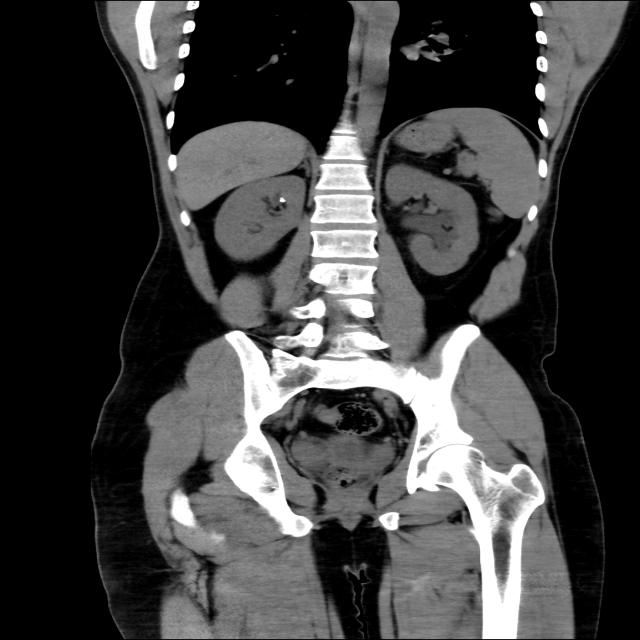kidneystone: (272, 195, 287, 204)
